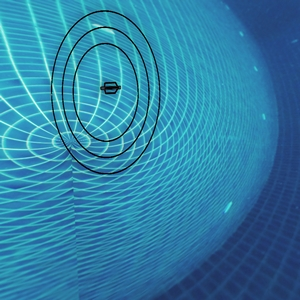circle: (47, 6, 177, 187)
